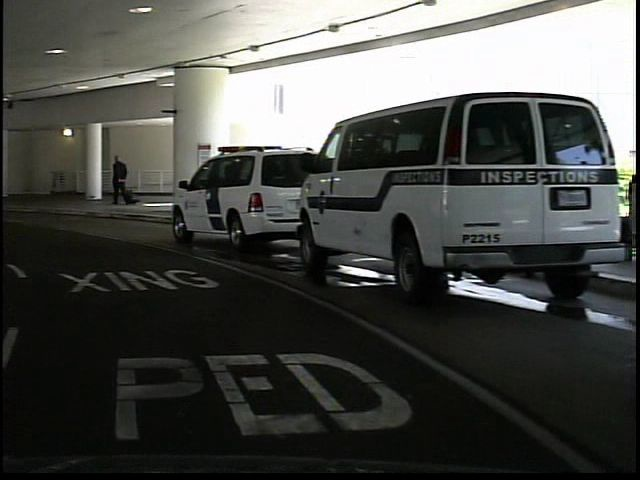person: (107, 150, 131, 210)
